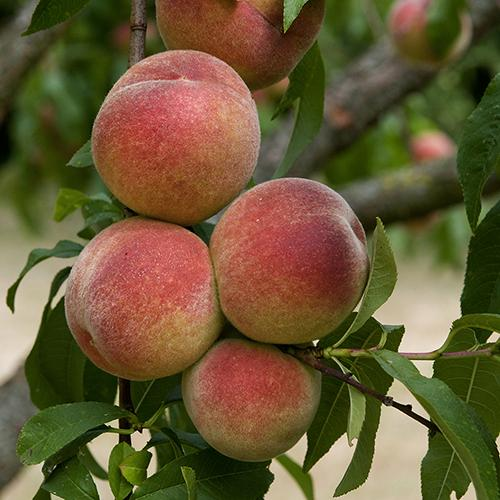Peach leaf: (369, 345, 500, 499), (319, 216, 406, 356), (9, 396, 143, 463), (283, 42, 334, 190), (454, 77, 499, 231), (1, 236, 86, 309)
